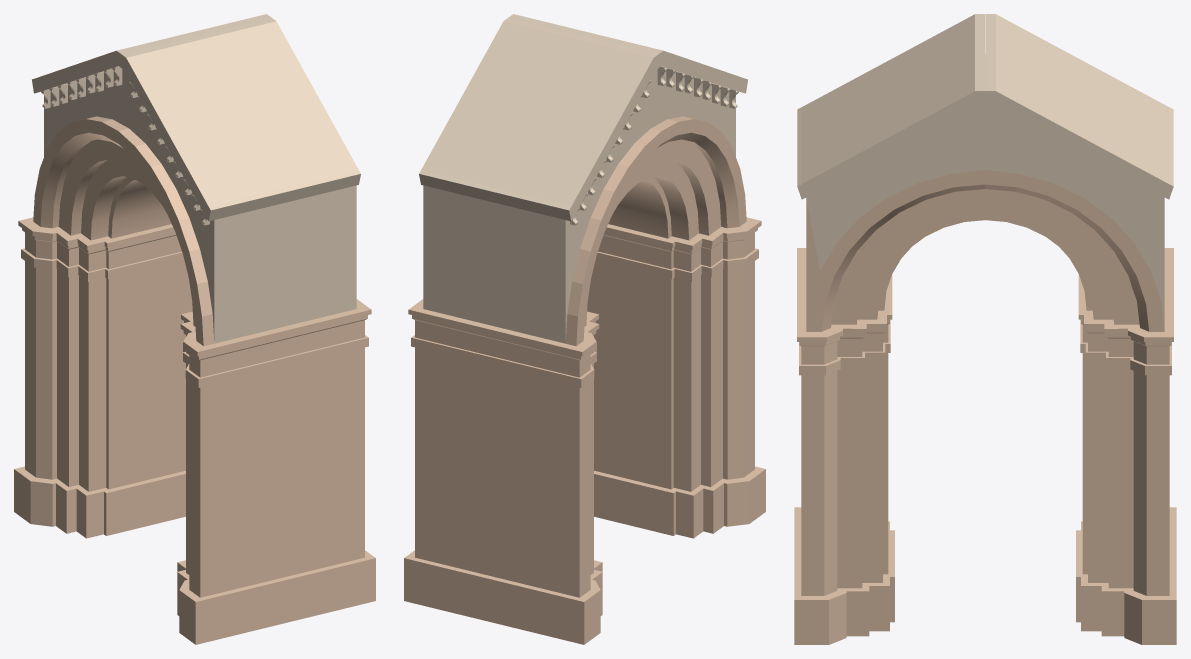
Rendered from BC_DoorFrame_B.fbx.
3 renders of one model, left to right at view 1: azimuth 30°, elevation 25°; view 2: azimuth 150°, elevation 25°; view 3: azimuth 270°, elevation 25°, orthographic. The views are drawn at different scales.
Parts seen in each view (by area): view 1: BC_DoorFrame_B; view 2: BC_DoorFrame_B; view 3: BC_DoorFrame_B.
Boxes of the visible parts, bbox=[...] form: BC_DoorFrame_B: bbox=[14, 14, 375, 644]; BC_DoorFrame_B: bbox=[404, 14, 765, 644]; BC_DoorFrame_B: bbox=[794, 14, 1176, 644].
Size of the model in its own units: 478 by 1320 by 836.
